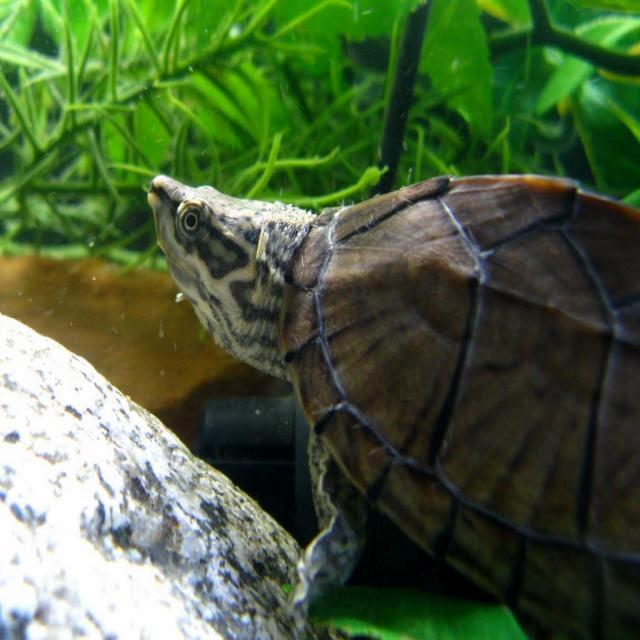Sea turtle: (143, 170, 640, 640)
